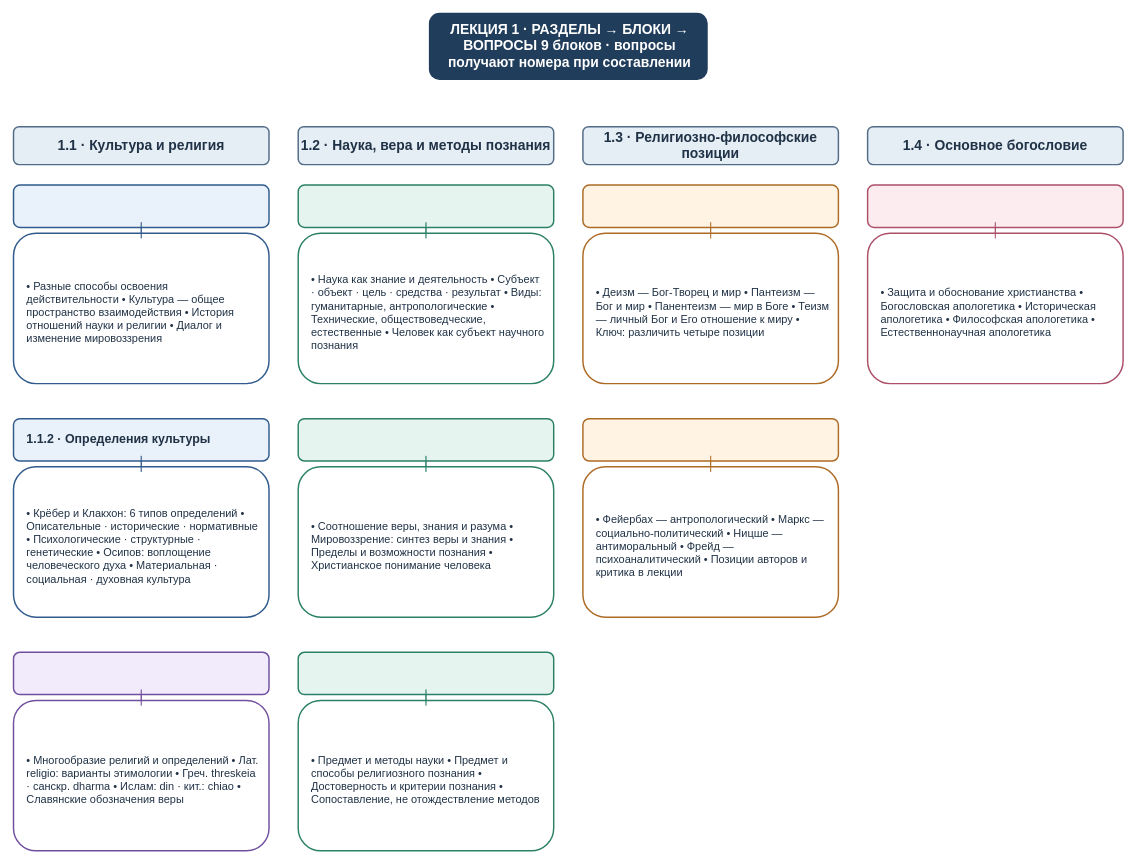
The diagram is 1136 pixels wide and 864 high, and some of its shapes have lost their labels. The centre of each missing label's shape, as x and y in pixels:
1.1.1 · Наука и религия в культуре: the point at 140,206
1.1.3 · Понятие религии: the point at 140,673
1.2.1 · Определение науки: the point at 425,206
1.2.2 · Вера и разум: the point at 425,439
1.2.3 · Различие методологий: the point at 425,673
1.3.1 · Религиозно-философские системы: the point at 710,206
1.3.2 · Четыре версии атеизма: the point at 710,439
1.4.1 · Основное богословие (апологетика): the point at 995,206
